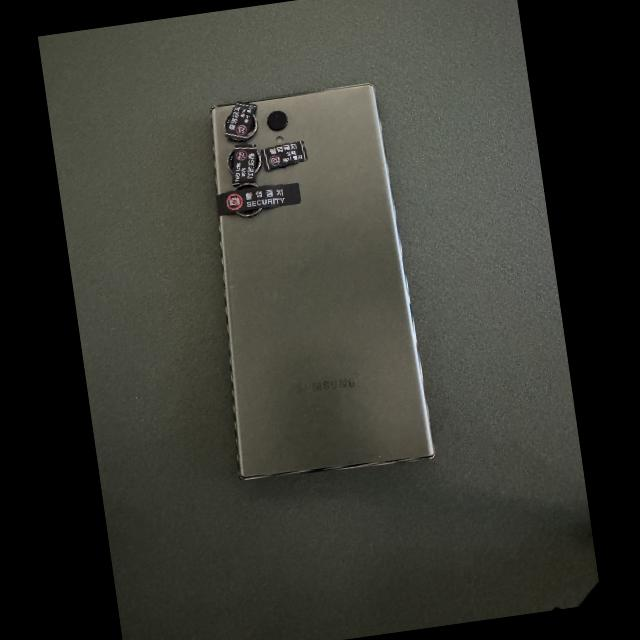lens: (268, 111, 287, 130), (249, 115, 258, 138), (236, 184, 258, 189), (229, 151, 234, 171)
phone: (212, 84, 434, 479)
sticker: (217, 183, 300, 218), (260, 140, 308, 171), (225, 101, 257, 140), (232, 144, 256, 187)
